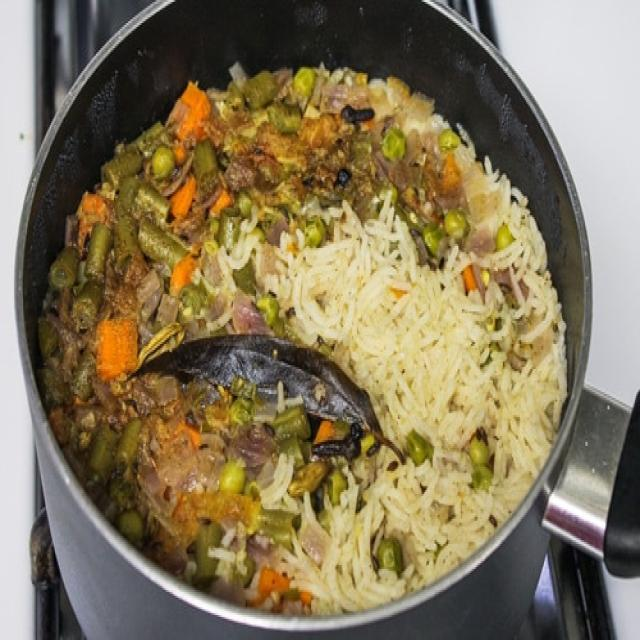veg palav: (21, 12, 584, 640)
